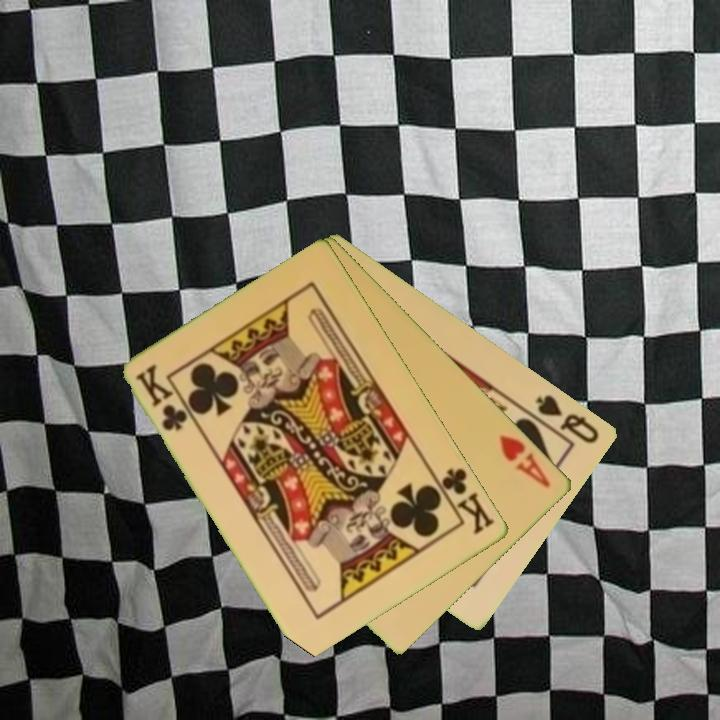Ah: (495, 431, 554, 491)
Kc: (431, 464, 498, 537), (132, 360, 191, 435)
Qs: (532, 391, 603, 447)
